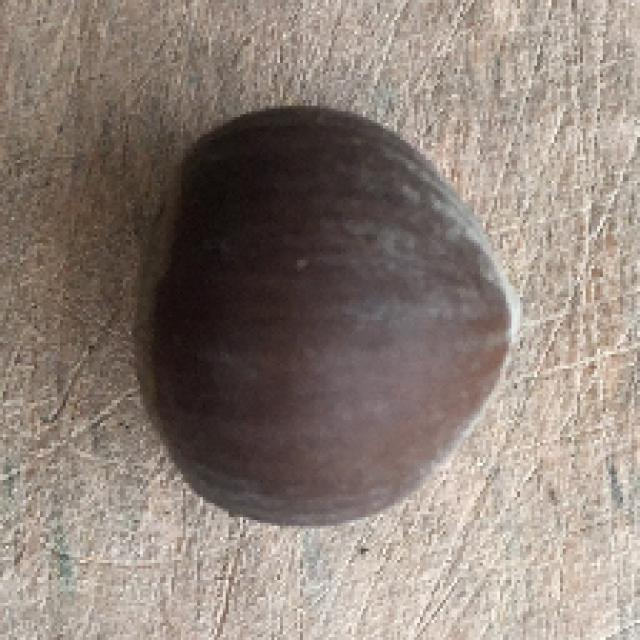damagedHazelnut: (123, 104, 518, 532)
